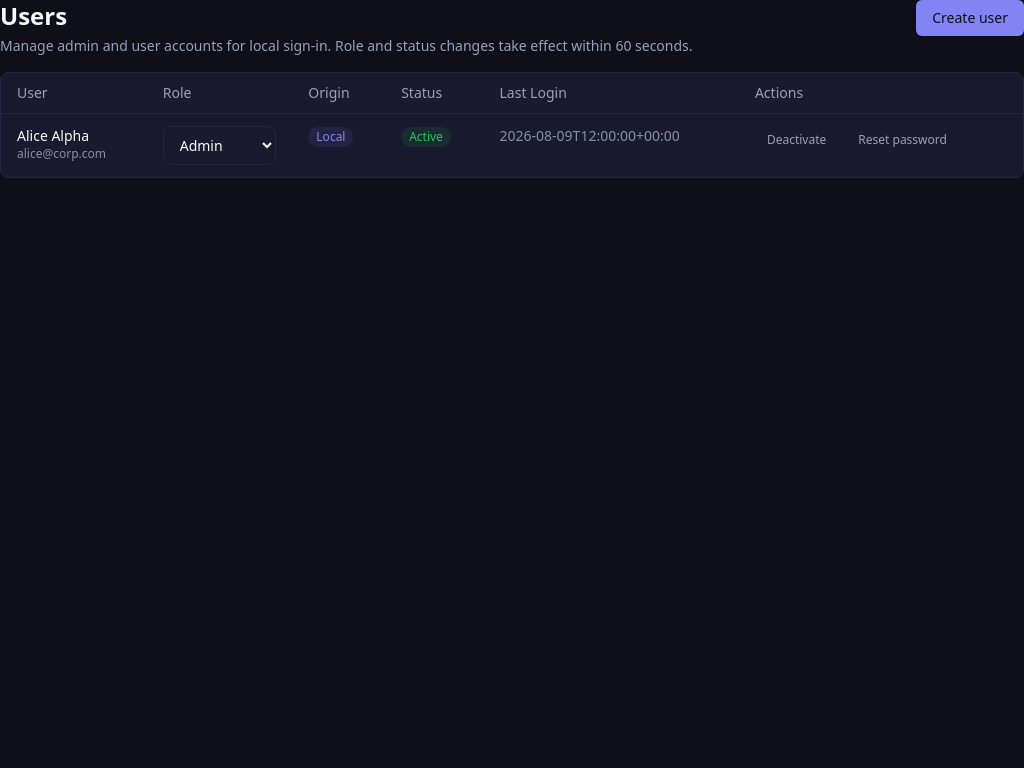
Test: AdminUsersPage — create user flow › local-user-creation-unavailable: renders the server error inline, dialog stays open
Expected: the text "Alice Alpha" is shown, [17,126,89,145]
Click the button "Create user".
click(970, 18)  # box [916,0,1023,36]
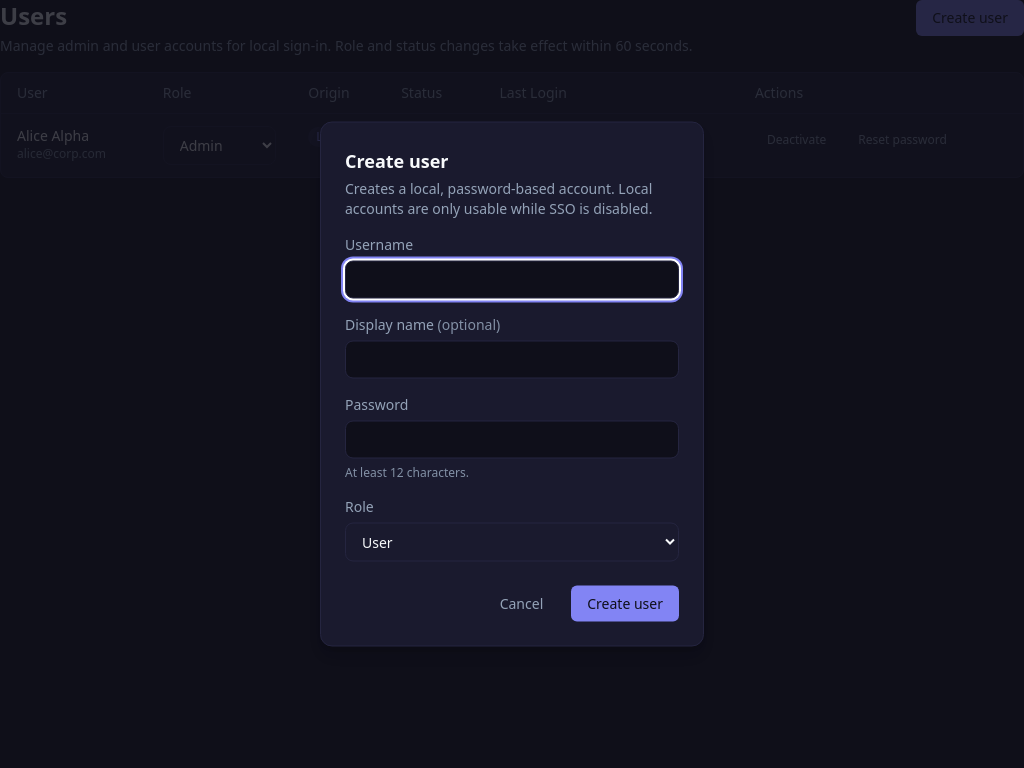
Type "zoe@corp.com" into the field labelled "Username".
click(512, 280); type("zoe@corp.com")  # box [345,260,679,298]
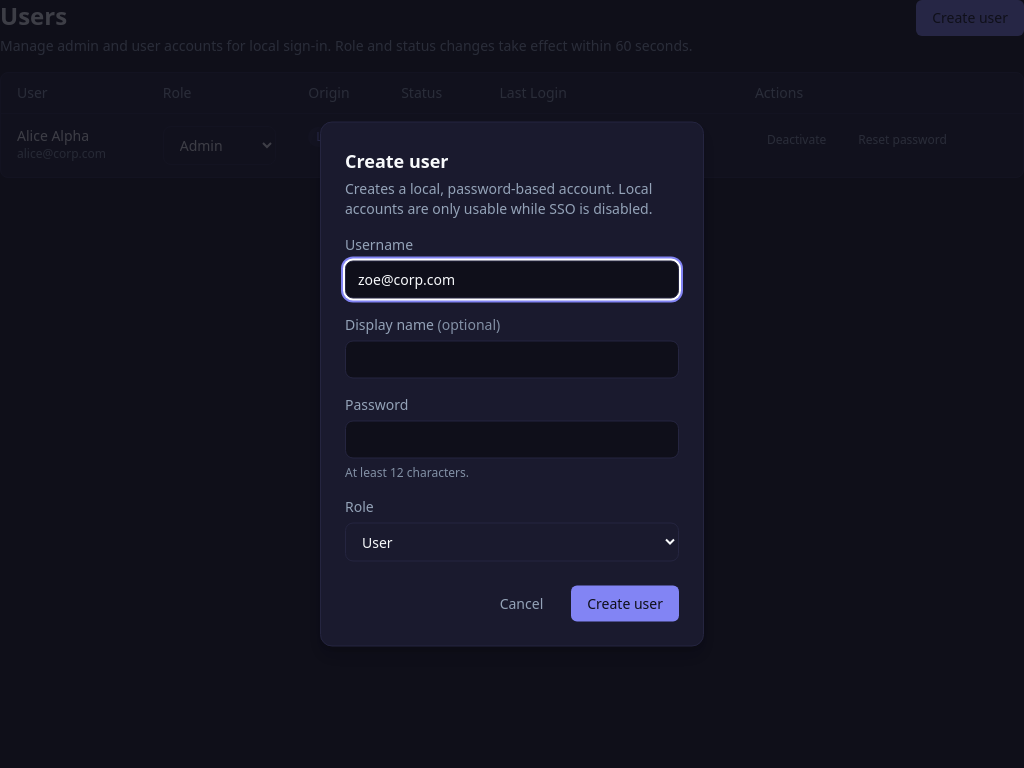
Type "a-very-long-password" into the password field labelled "Password".
click(512, 440); type("a-very-long-password")  # box [345,420,679,458]
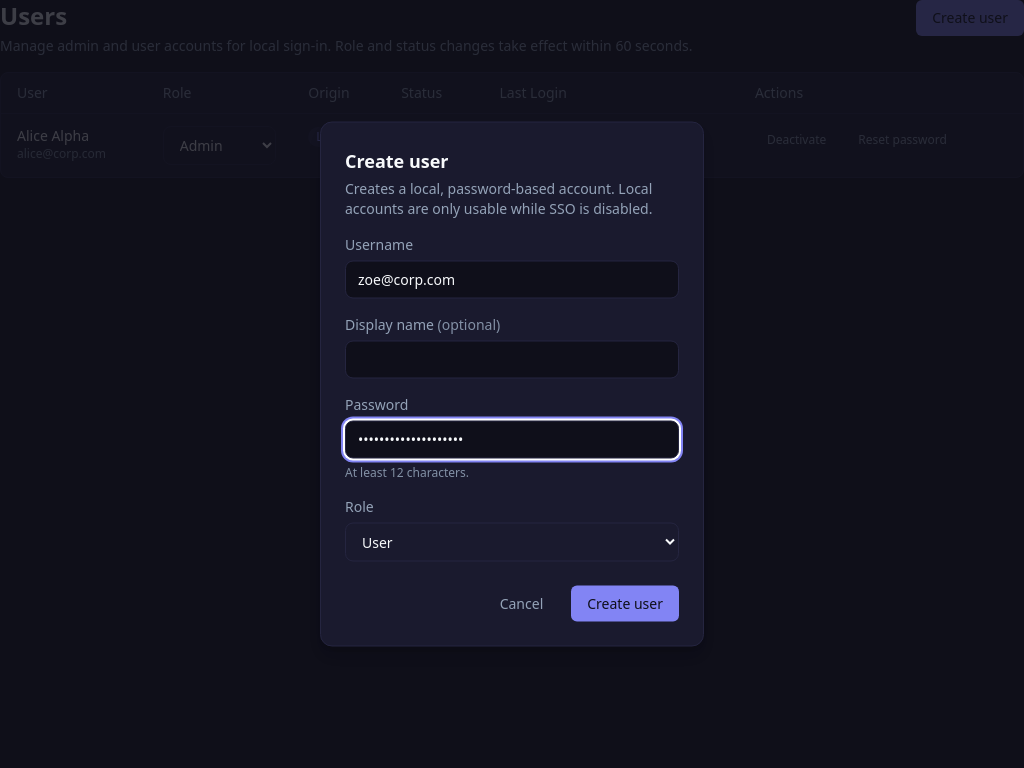
Click the button "Create user".
click(625, 604)  # box [571,586,679,622]
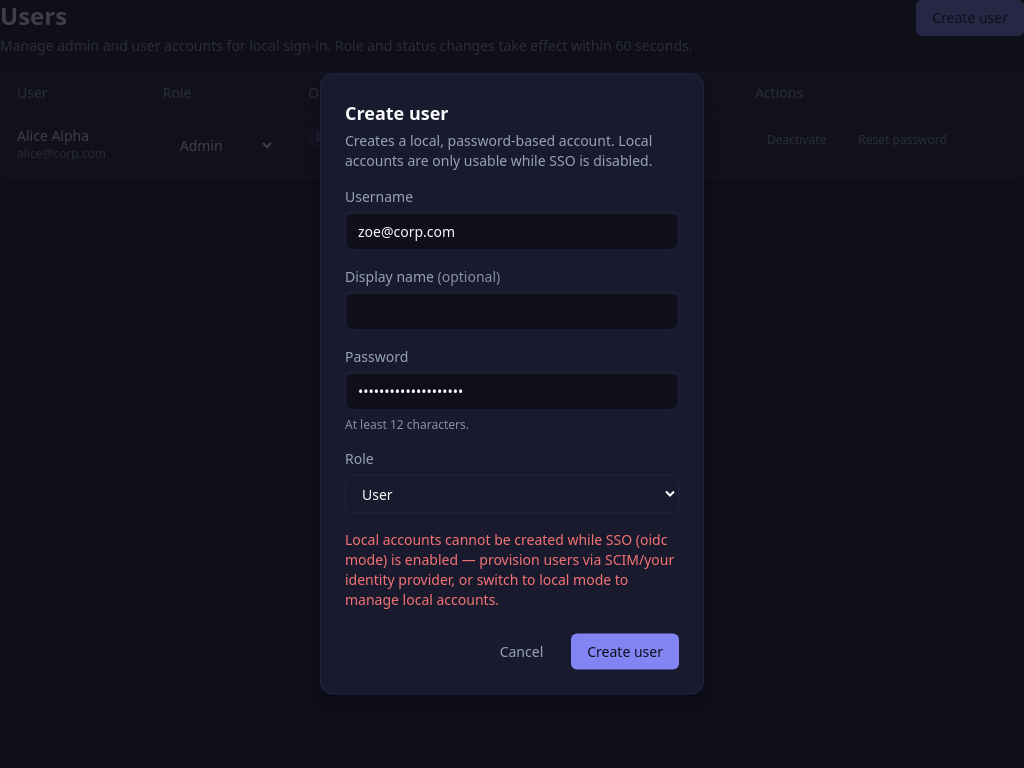
Result: the dialog is shown at [320,74,704,694]
Result: the text "Local accounts cannot be created while SSO" is shown at [345,530,674,608]
